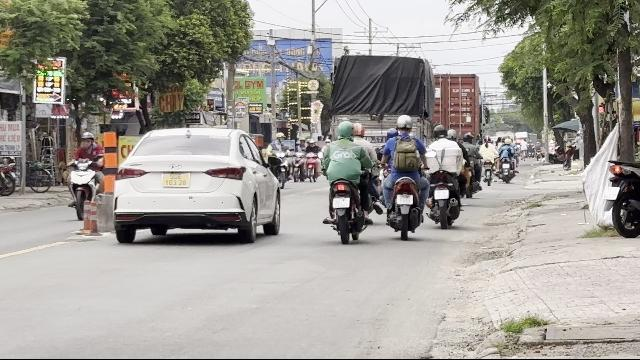helmet: (334, 120, 354, 140), (395, 114, 413, 132), (432, 124, 446, 138), (352, 122, 364, 138)
licenseplate: (332, 198, 350, 208), (397, 195, 413, 205), (435, 190, 449, 200)
motorcyclist: (319, 120, 375, 243), (379, 112, 428, 238), (424, 123, 466, 227)
